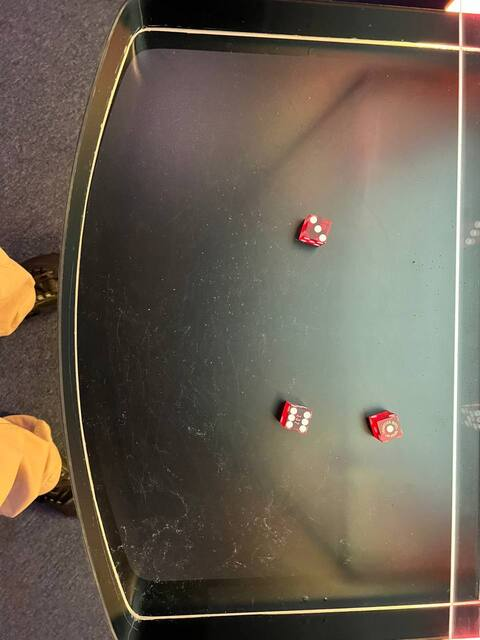one: (375, 414, 405, 445)
six: (281, 401, 314, 436)
three: (296, 211, 333, 248)
